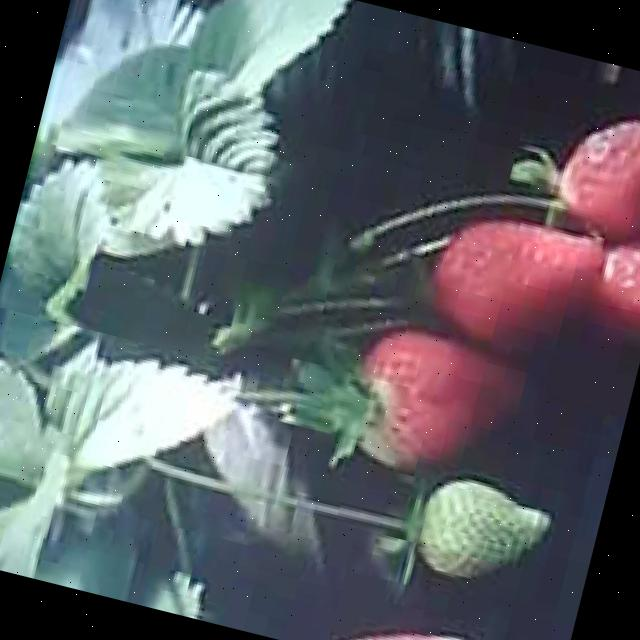strawberry: (350, 324, 534, 492), (422, 202, 602, 360), (406, 468, 556, 594), (547, 94, 640, 255)
